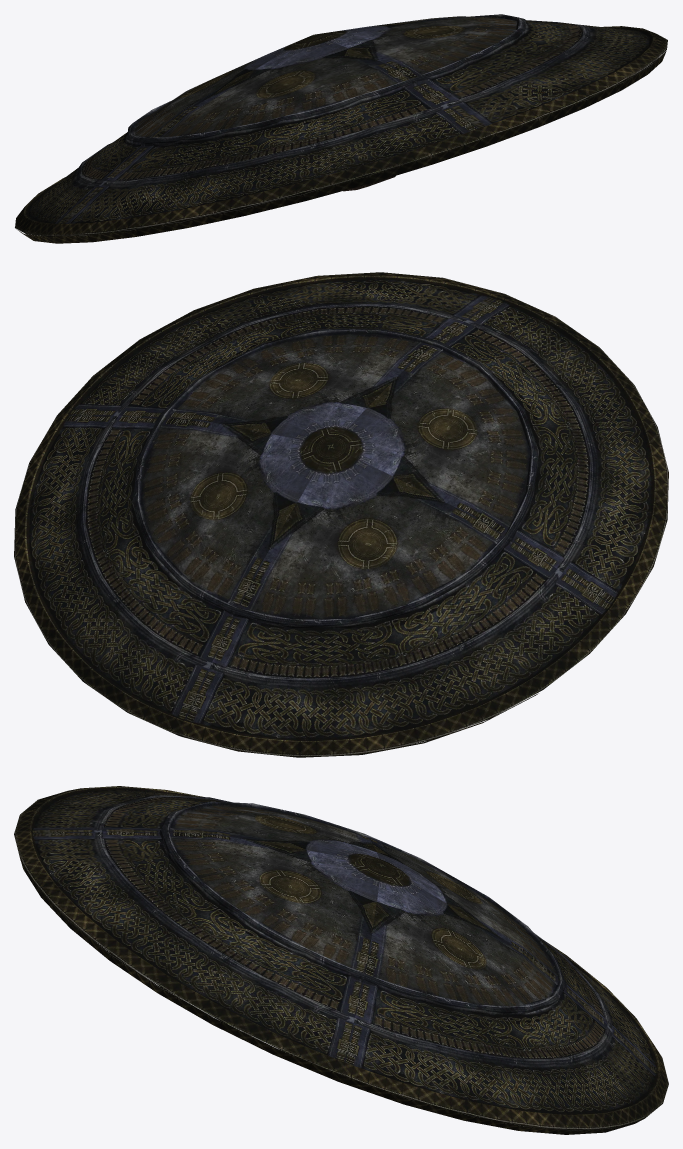
Rendered from ITAR_SHIELD_04_NEW.glb.
3 views of the same model, one above another, from view 1: azimuth 30°, elevation 25°; view 2: azimuth 150°, elevation 25°; view 3: azimuth 270°, elevation 25° (orthographic). The views are drawn at different scales.
Parts seen in each view (by area): view 1: ITAR_SHIELD_04_NEW; view 2: ITAR_SHIELD_04_NEW; view 3: ITAR_SHIELD_04_NEW.
Part boxes in pixels (x1=…): ITAR_SHIELD_04_NEW: x1=15, y1=14, x2=667, y2=243; ITAR_SHIELD_04_NEW: x1=14, y1=272, x2=668, y2=757; ITAR_SHIELD_04_NEW: x1=14, y1=786, x2=668, y2=1134.
Size of the model in its own units: 0.7879 by 0.317 by 0.7339.
Materials: 1 (1 with a texture image).
